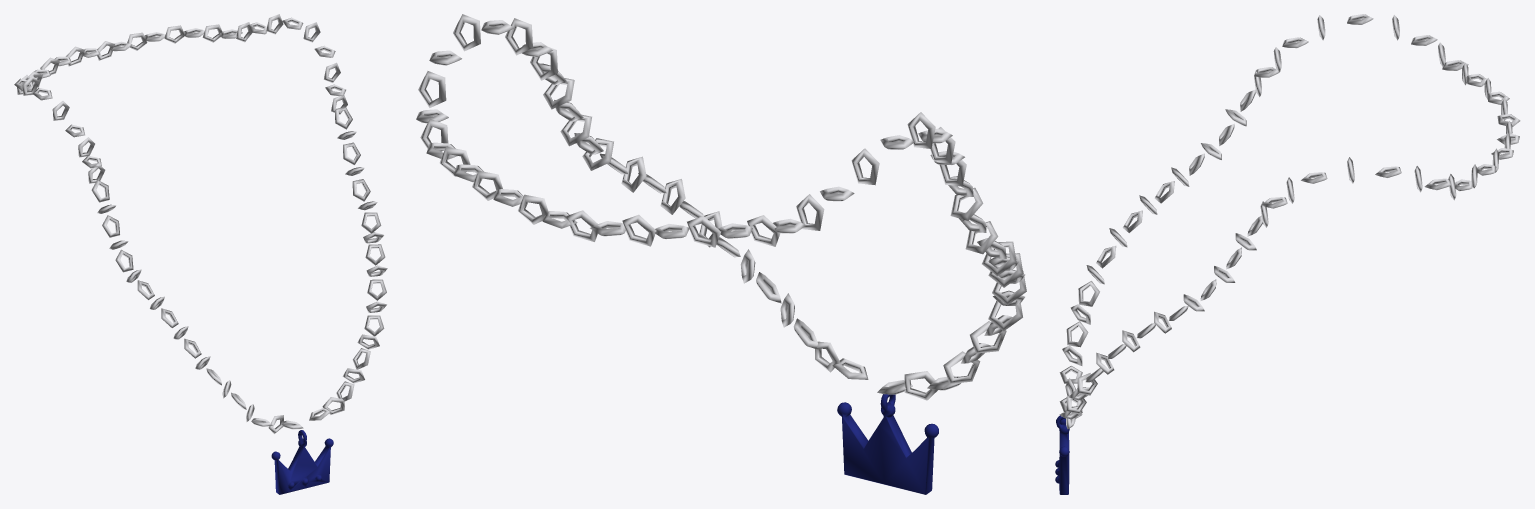
The model's file is acc_chain_crown.glb.
3 renders of one model, left to right at view 1: azimuth 30°, elevation 25°; view 2: azimuth 150°, elevation 25°; view 3: azimuth 270°, elevation 25°, orthographic. The views are drawn at different scales.
Visible parts, largest first — view 1: acc_chain_crown_0_metal, acc_chain_crown_1_secondary; view 2: acc_chain_crown_0_metal, acc_chain_crown_1_secondary; view 3: acc_chain_crown_0_metal, acc_chain_crown_1_secondary.
Part boxes in pixels (bbox=[...]): acc_chain_crown_0_metal: bbox=[14, 14, 387, 433]; acc_chain_crown_1_secondary: bbox=[271, 430, 333, 494]; acc_chain_crown_0_metal: bbox=[416, 14, 1026, 400]; acc_chain_crown_1_secondary: bbox=[837, 394, 938, 494]; acc_chain_crown_0_metal: bbox=[1059, 14, 1520, 429]; acc_chain_crown_1_secondary: bbox=[1055, 415, 1069, 494].
Bounding box in the file's own units: 0.1856 × 0.215 × 0.2282.
